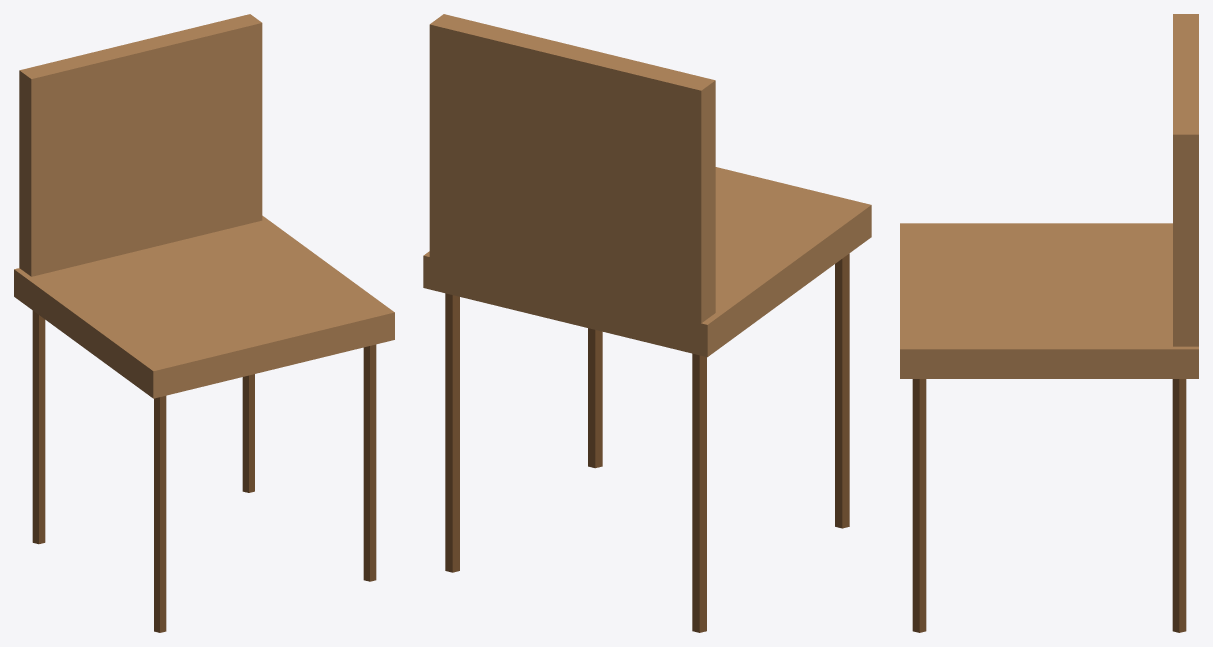
File: cadeira_copa.obj
3 views of the same model, side by side, from view 1: azimuth 30°, elevation 25°; view 2: azimuth 150°, elevation 25°; view 3: azimuth 270°, elevation 25° (orthographic). The views are drawn at different scales.
Visible parts, largest first — view 1: cadeira_copa; view 2: cadeira_copa; view 3: cadeira_copa.
Boxes of the visible parts, bbox=[...] form: cadeira_copa: bbox=[14, 14, 394, 632]; cadeira_copa: bbox=[423, 14, 871, 632]; cadeira_copa: bbox=[900, 14, 1198, 632].
Bounding box in the file's own units: 0.46 × 0.85 × 0.46.
